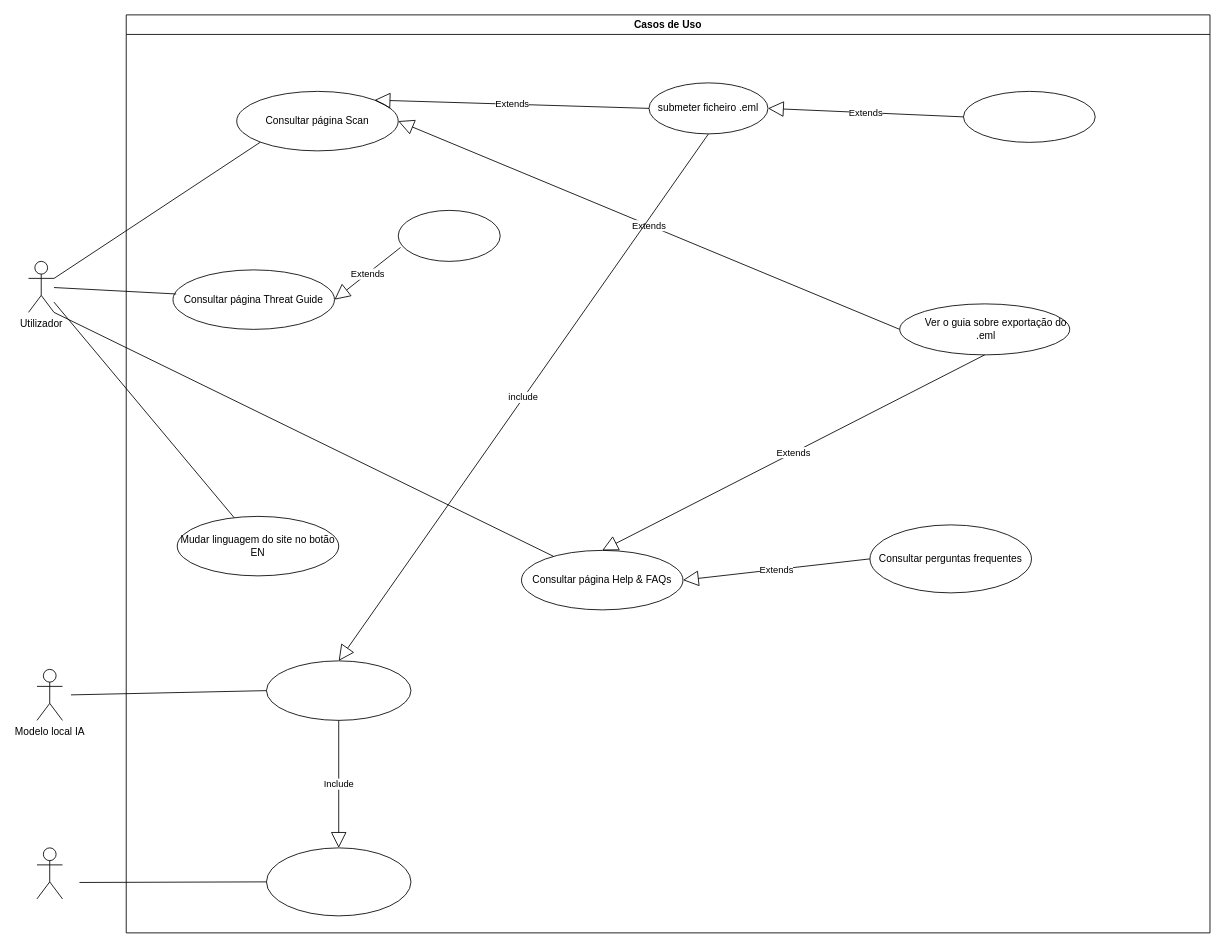
This 1225x948 diagram has some shape labels left out. The shapes that lost their labels are listed below. From the top down, each one's centre as x and y in pixels, then its label:
At point 1029,116: "ver relatório de risco".
At point 448,235: "Ver guias".
At point 338,690: "Gerar relatório e análise semântica".
At point 49,873: "API virustotal".
At point 338,881: "Consultar reputação de URLs e Anexos".
